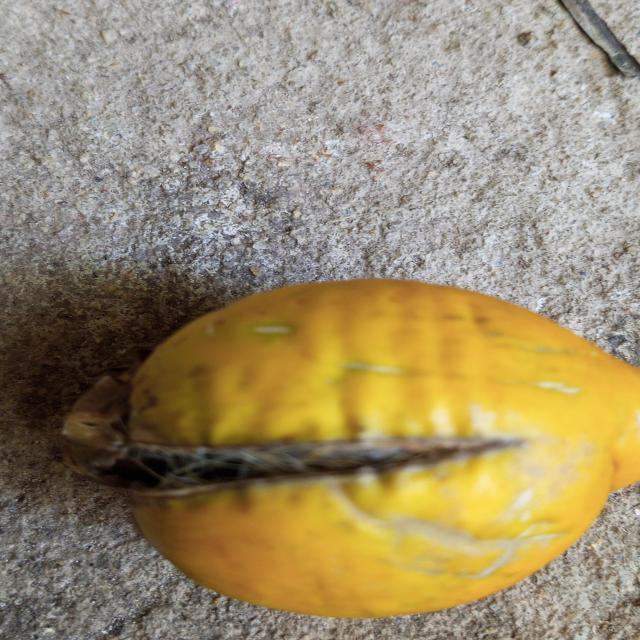damaged: (61, 279, 640, 617)
